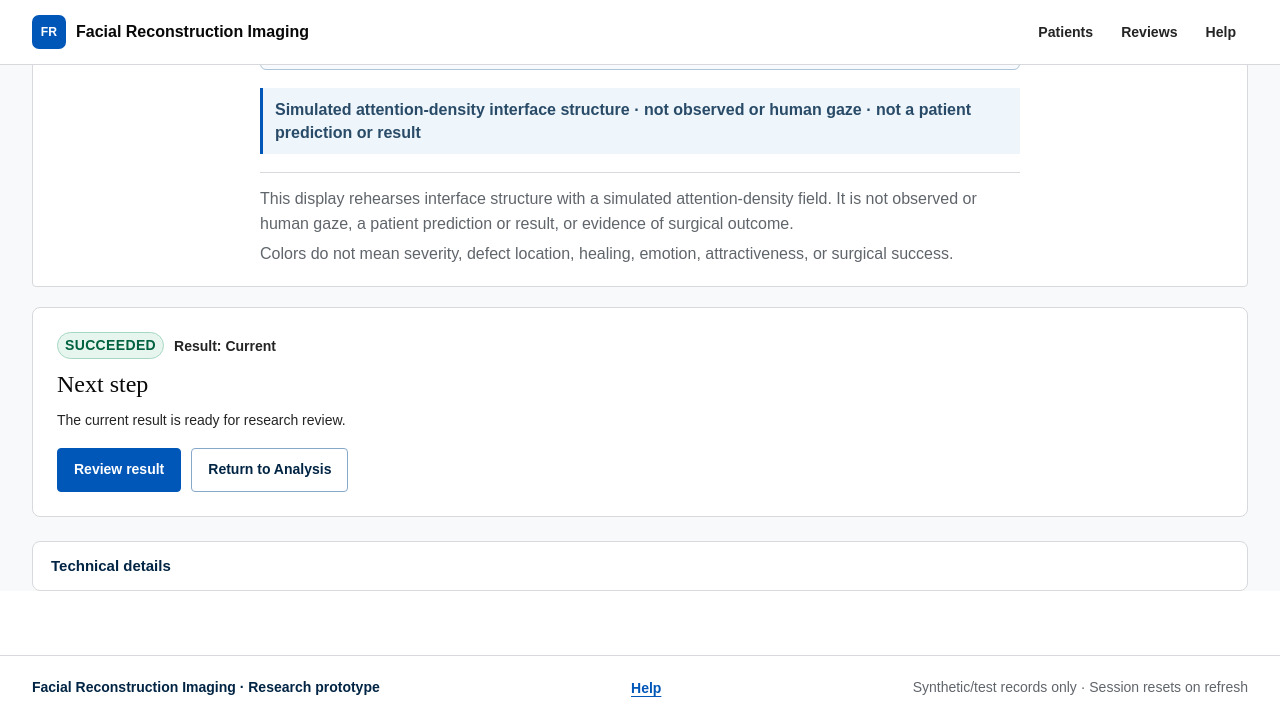
Test: session runs › shows a calm case-first detail with review and Analysis actions while technical evidence stays disclosed
(page scrolled)
Check: the element named "Run status succeeded" is shown, box [57,332,164,359]
Check: the text "Result: Current" is shown, box [174,338,276,354]
Click the heading "Technical details" at (111, 566), box [51,557,171,574]
(page scrolled)
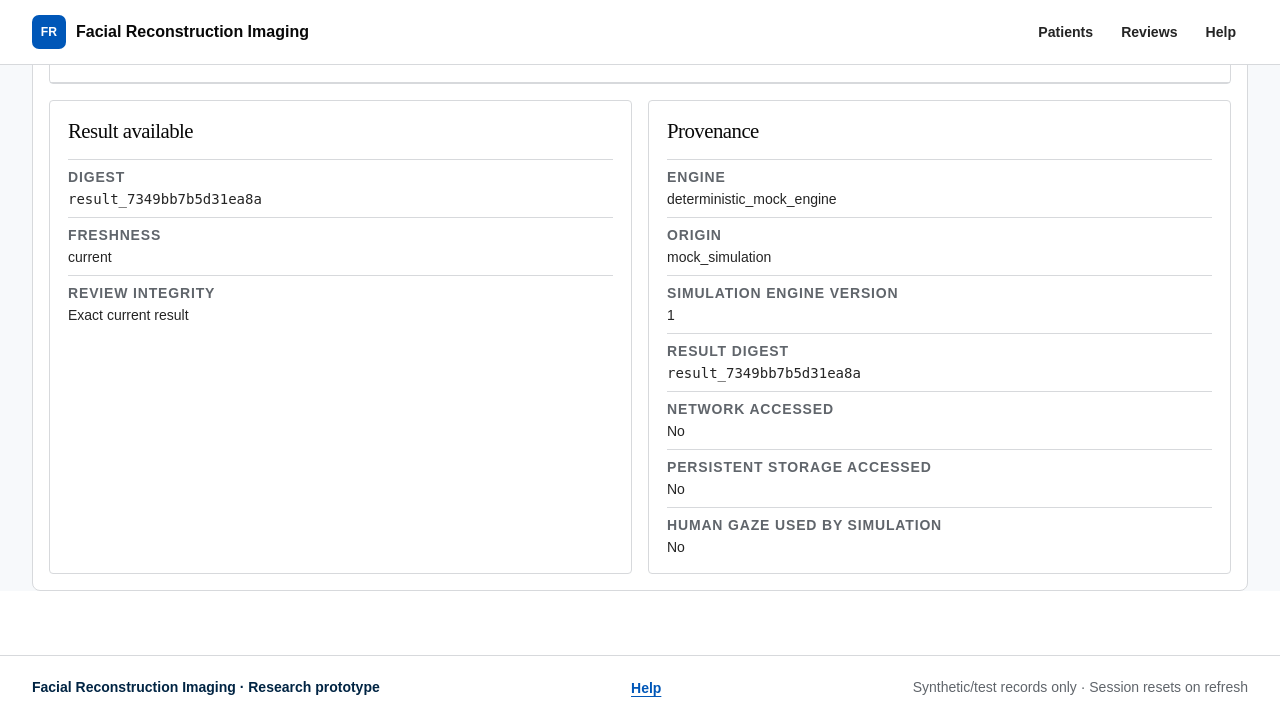
Check: the heading "Result available" is shown, box [68,119,193,142]
Check: the text "result_7349bb7b5d31ea8a" below "Result available" is shown, box [68,191,262,207]
Check: the text "deterministic_mock_engine" is shown, box [667,191,837,207]
